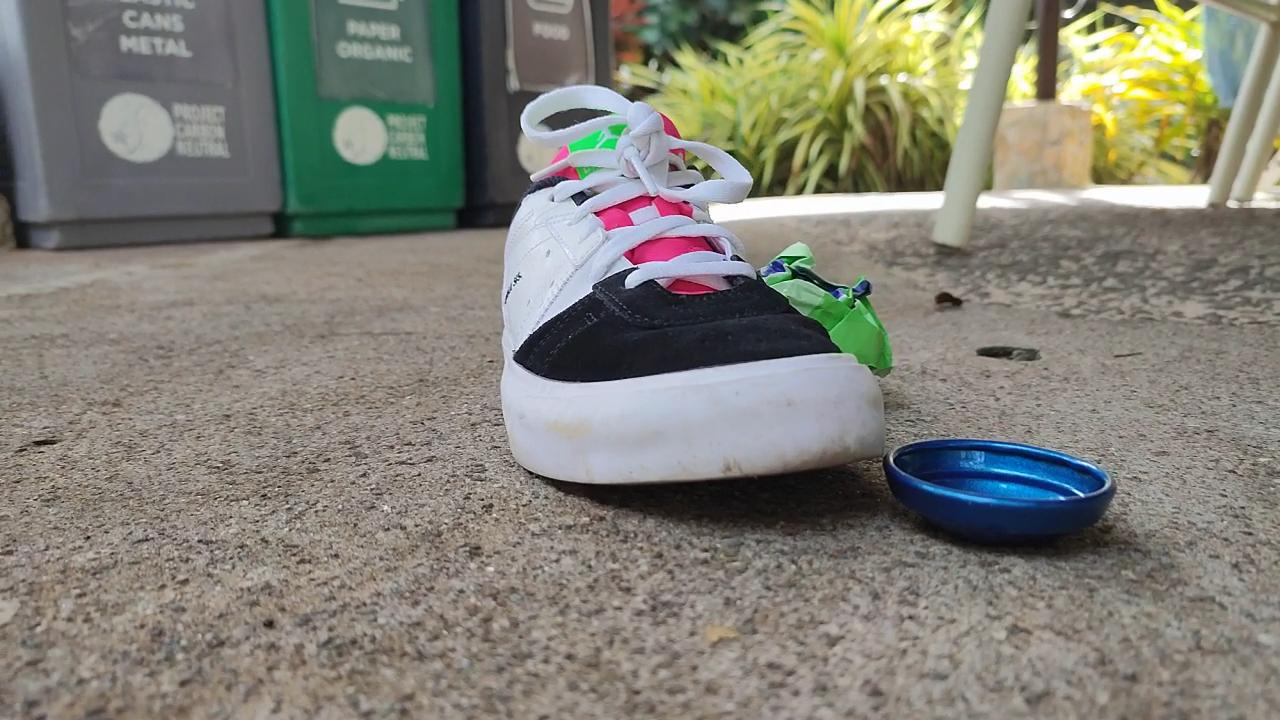Paper: (755, 225, 897, 382)
